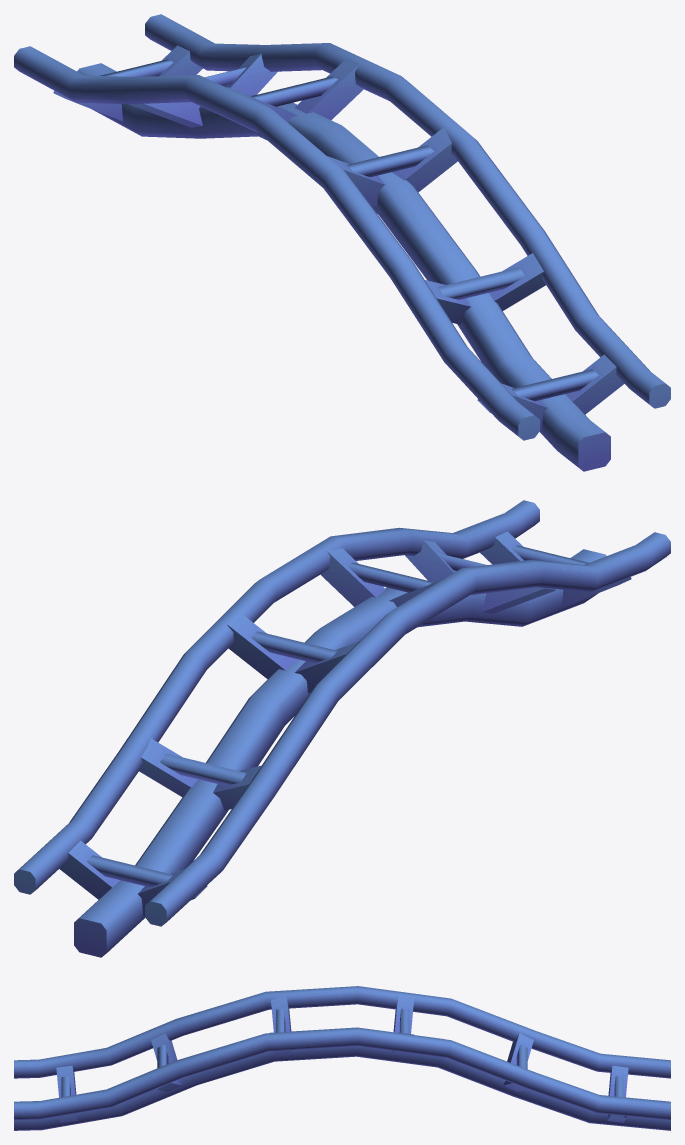
Rendered from steel-bump-up.glb.
3 renders of one model, top to bottom at view 1: azimuth 30°, elevation 25°; view 2: azimuth 150°, elevation 25°; view 3: azimuth 270°, elevation 25°, orthographic. The views are drawn at different scales.
Visible parts, largest first — view 1: coaster-steel-straight-bump-up; view 2: coaster-steel-straight-bump-up; view 3: coaster-steel-straight-bump-up.
Boxes of the visible parts, x1,y1,x2,y2 form: coaster-steel-straight-bump-up: [14, 14, 670, 471]; coaster-steel-straight-bump-up: [14, 500, 670, 957]; coaster-steel-straight-bump-up: [14, 986, 670, 1130].
Bounding box in the file's own units: 0.6997 × 0.7984 × 4.
1 material, 1 textured.
